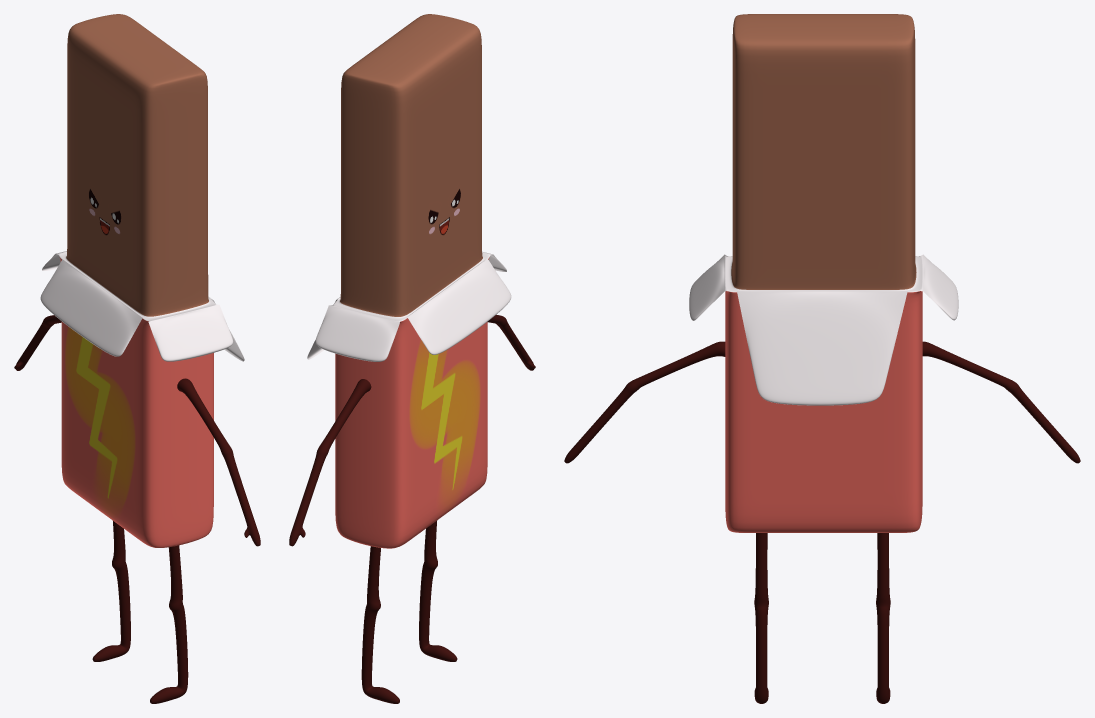
Rendered from Ernie_EnergyBar.dae.
3 renders of one model, left to right at view 1: azimuth 30°, elevation 25°; view 2: azimuth 150°, elevation 25°; view 3: azimuth 270°, elevation 25°, orthographic. The views are drawn at different scales.
Visible parts, largest first — view 1: EnergyBar; view 2: EnergyBar; view 3: EnergyBar.
Part boxes in pixels (<box>): EnergyBar: <box>14,14,260,703</box>; EnergyBar: <box>289,14,535,703</box>; EnergyBar: <box>564,14,1080,703</box>.
Size of the model in its own units: 0.8362 by 3.48 by 2.42.
Materials: 1 (1 with a texture image).
